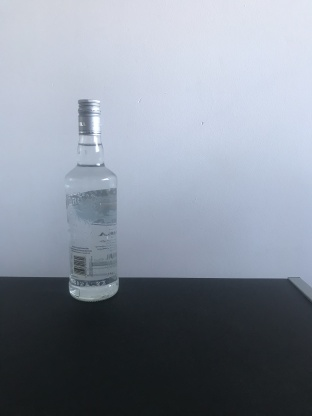nakretka: (76, 96, 102, 137)
